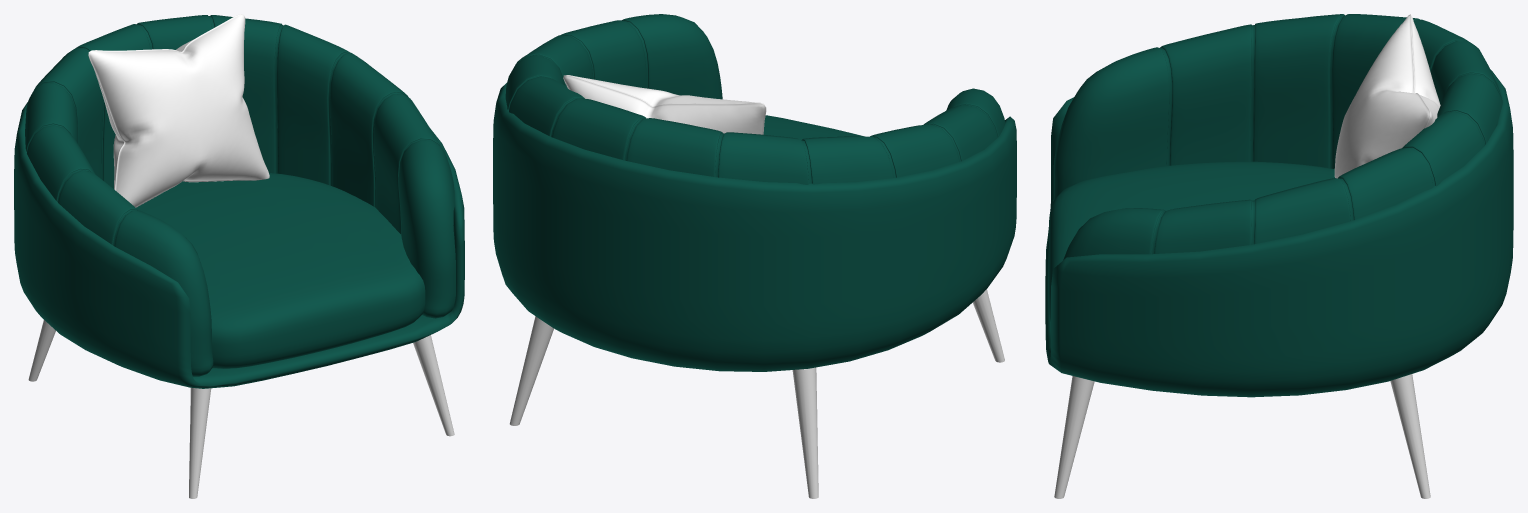
The model's file is couch.gltf.
3 renders of one model, left to right at view 1: azimuth 30°, elevation 25°; view 2: azimuth 150°, elevation 25°; view 3: azimuth 270°, elevation 25°, orthographic. The views are drawn at different scales.
Parts seen in each view (by area): view 1: Cube.001_3, Cube.002_4, Cube_2, Plane_6, Cylinder_5; view 2: Cube_2, Cube.001_3, Plane_6, Cylinder_5, Cube.002_4; view 3: Cube_2, Cube.001_3, Cube.002_4, Plane_6, Cylinder_5.
Boxes of the visible parts, x1,y1,x2,y2 form: Cube.001_3: (25,15,455,376); Cube.002_4: (136,173,425,368); Cube_2: (14,102,464,388); Plane_6: (88,14,269,207); Cylinder_5: (28,320,454,498); Cube_2: (493,83,1016,371); Cube.001_3: (505,14,1005,184); Plane_6: (563,75,766,134); Cylinder_5: (509,289,1004,498); Cube.002_4: (763,115,863,139); Cube_2: (1045,69,1513,397); Cube.001_3: (1053,14,1502,260); Cube.002_4: (1049,161,1334,321); Plane_6: (1334,14,1440,178); Cylinder_5: (1054,374,1430,498).
Bounding box in the file's own units: 1.69 × 1.39 × 1.6.
